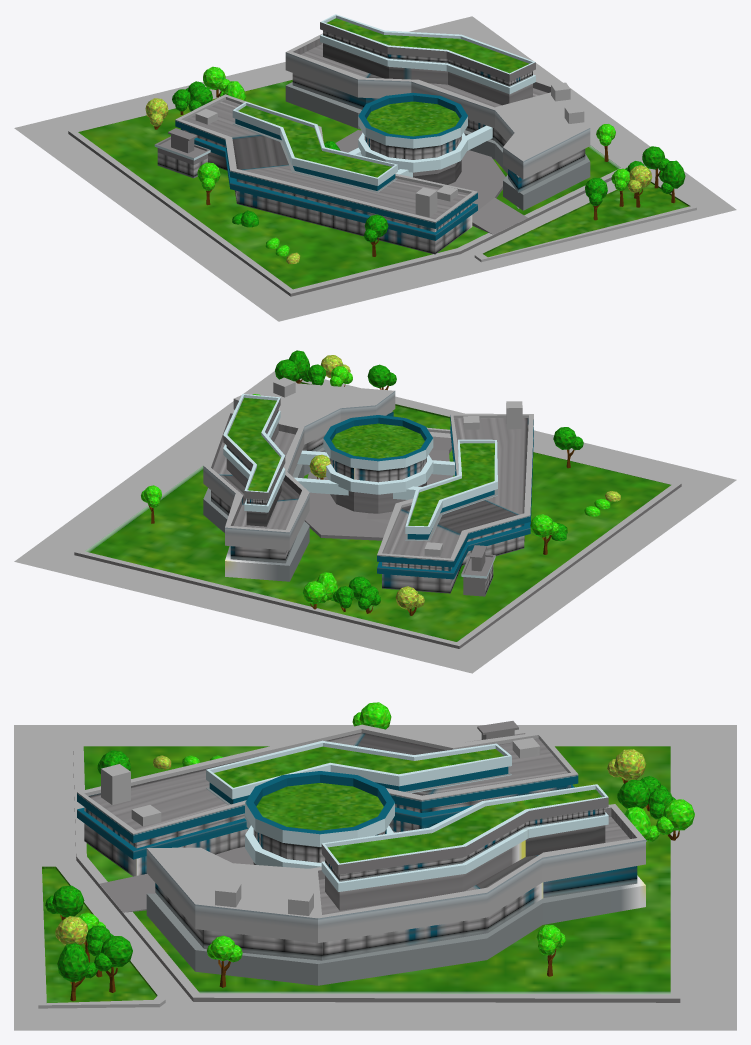
File: socialmedia_LV2.fbx
3 views of the same model, one above another, from view 1: azimuth 30°, elevation 25°; view 2: azimuth 150°, elevation 25°; view 3: azimuth 270°, elevation 25° (orthographic). The views are drawn at different scales.
Parts seen in each view (by area): view 1: social media lv2; view 2: social media lv2; view 3: social media lv2.
Boxes of the visible parts, x1,y1,x2,y2 form: social media lv2: [14, 14, 736, 321]; social media lv2: [14, 350, 736, 673]; social media lv2: [14, 702, 736, 1030].
Bounding box in the file's own units: 200 × 33.85 × 200.
